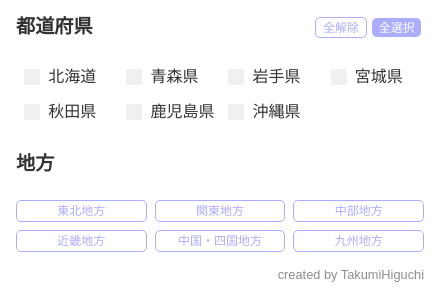
oragnisms/Sidebarのテスト › 地方トグルボタンクリック時に対象地方の都道府県がチェック状態になること
Click the button "東北地方". click: (81, 212)
box: [16,200,147,222]
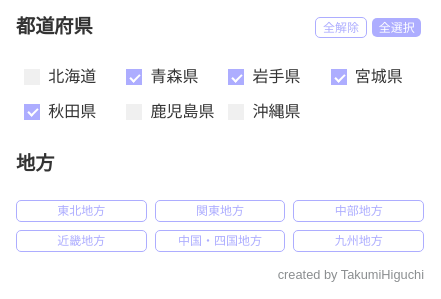
expect the checkbox labelled "青森県" is checked: met, box [118,60,203,94]
expect the checkbox labelled "岩手県" is checked: met, box [220,60,306,94]
expect the checkbox labelled "宮城県" is checked: met, box [323,60,408,94]
